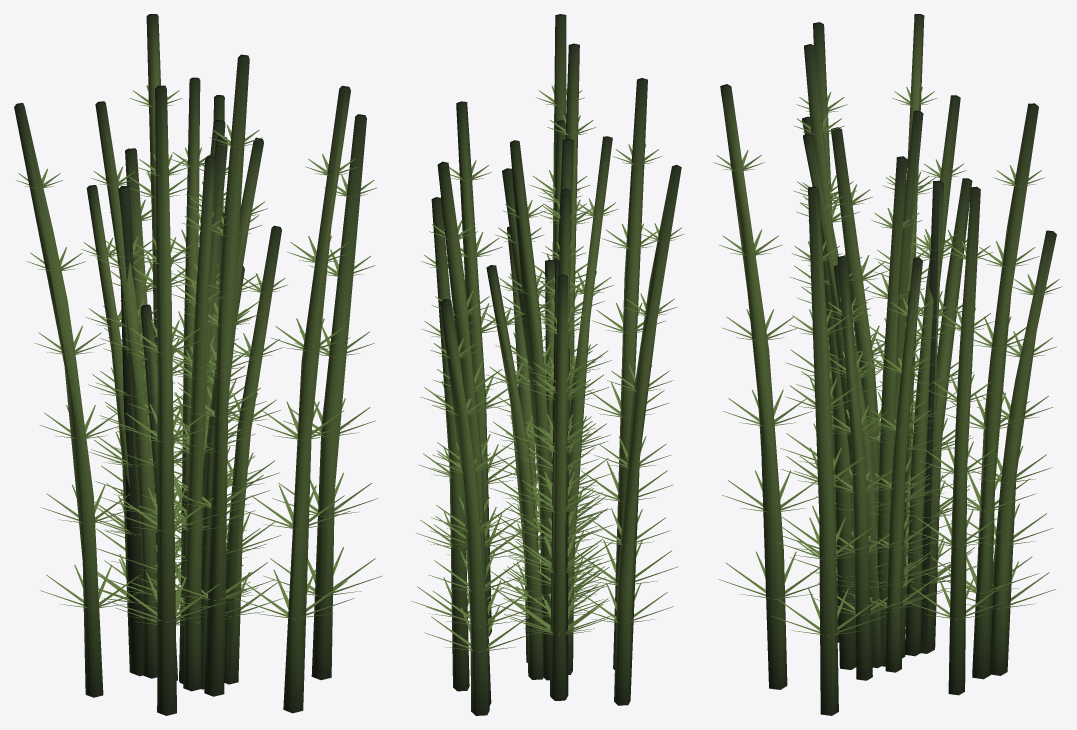
The model's file is horsetail.glb.
3 views of the same model, side by side, from view 1: azimuth 30°, elevation 25°; view 2: azimuth 150°, elevation 25°; view 3: azimuth 270°, elevation 25° (orthographic). The views are drawn at different scales.
Parts seen in each view (by area): view 1: horsetail1, horsetail0; view 2: horsetail0, horsetail1; view 3: horsetail1, horsetail0.
Part boxes in pixels (<box>): horsetail1: <box>91,14,382,715</box>; horsetail0: <box>14,77,287,697</box>; horsetail0: <box>411,120,684,705</box>; horsetail1: <box>424,14,678,715</box>; horsetail1: <box>713,22,1062,715</box>; horsetail0: <box>800,14,1007,695</box>.
Size of the model in its own units: 0.765 by 1.51 by 0.7657.
